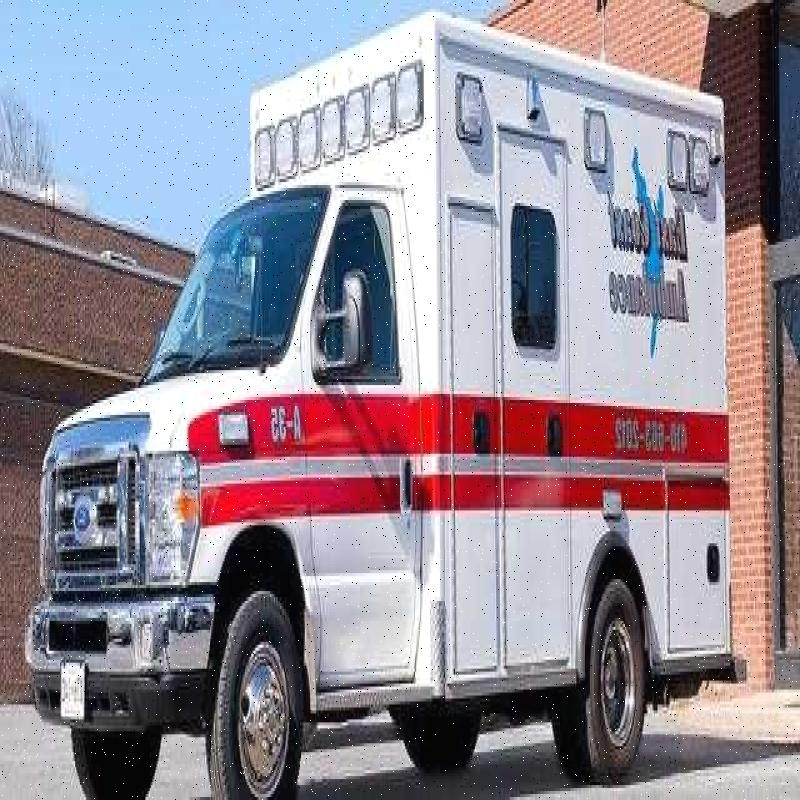AmbulanceSiren: (248, 18, 422, 188)
